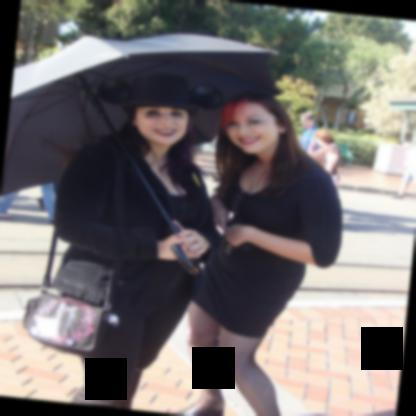handbag: (22, 230, 127, 360)
